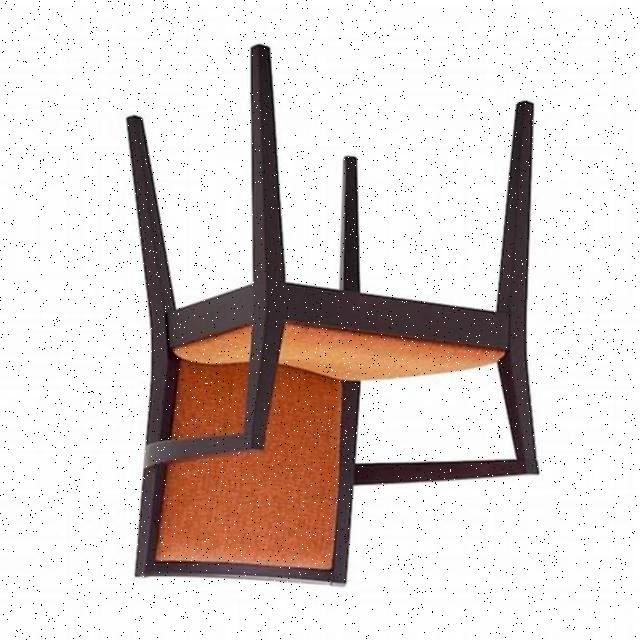bottle: (124, 34, 544, 593)
